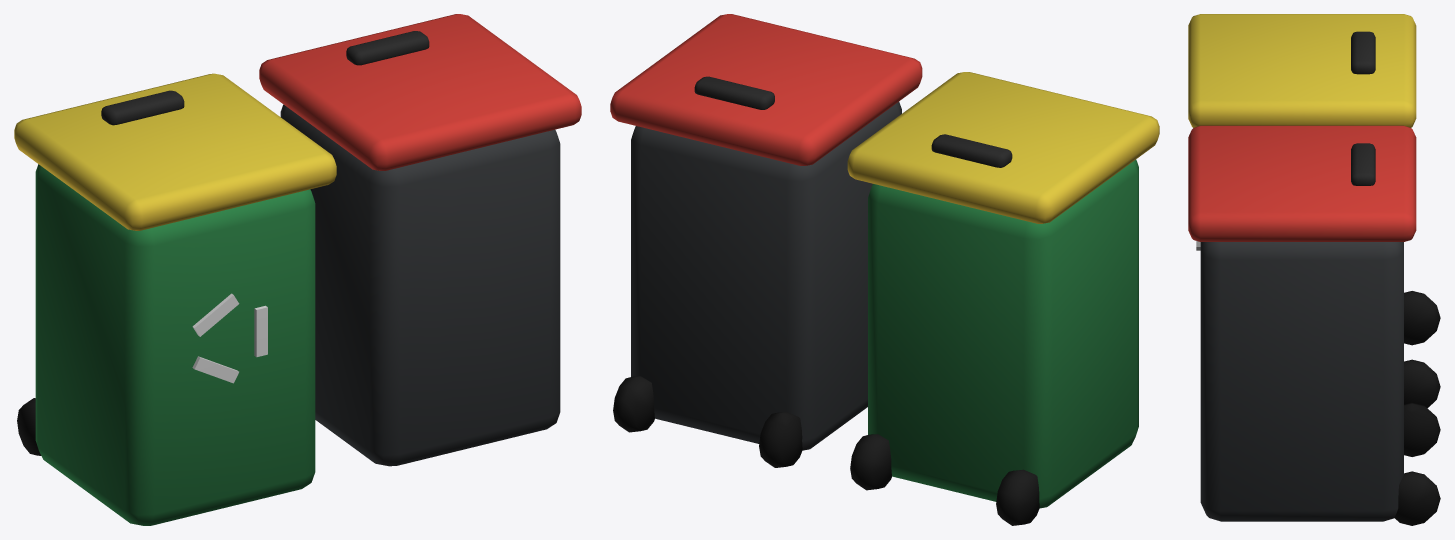
File: fe-bins.glb
3 renders of one model, left to right at view 1: azimuth 30°, elevation 25°; view 2: azimuth 150°, elevation 25°; view 3: azimuth 270°, elevation 25°, orthographic. The views are drawn at different scales.
Visible parts, largest first — view 1: fe-bins; view 2: fe-bins; view 3: fe-bins.
Part boxes in pixels (<box>): fe-bins: <box>14,14,581,525</box>; fe-bins: <box>610,14,1159,525</box>; fe-bins: <box>1188,14,1440,525</box>.
Bounding box in the file's own units: 1.21 × 0.9 × 0.62.
